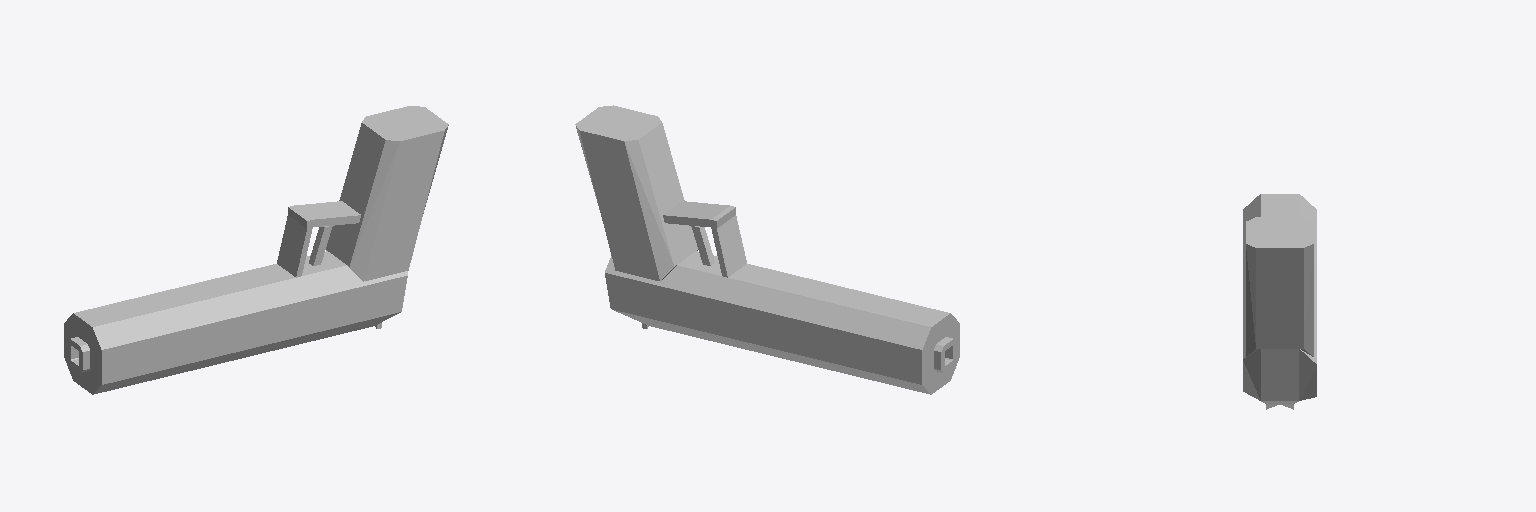
Rendered from pistol.obj.
3 views of the same model, side by side, from view 1: azimuth 30°, elevation 25°; view 2: azimuth 150°, elevation 25°; view 3: azimuth 270°, elevation 25° (orthographic).
Parts seen in each view (by area): view 1: Cube; view 2: Cube; view 3: Cube.
Boxes of the visible parts, x1=… form: Cube: x1=64, y1=106, x2=448, y2=394; Cube: x1=575, y1=105, x2=959, y2=394; Cube: x1=1243, y1=194, x2=1316, y2=409.
Size of the model in its own units: 11.21 by 5.69 by 2.